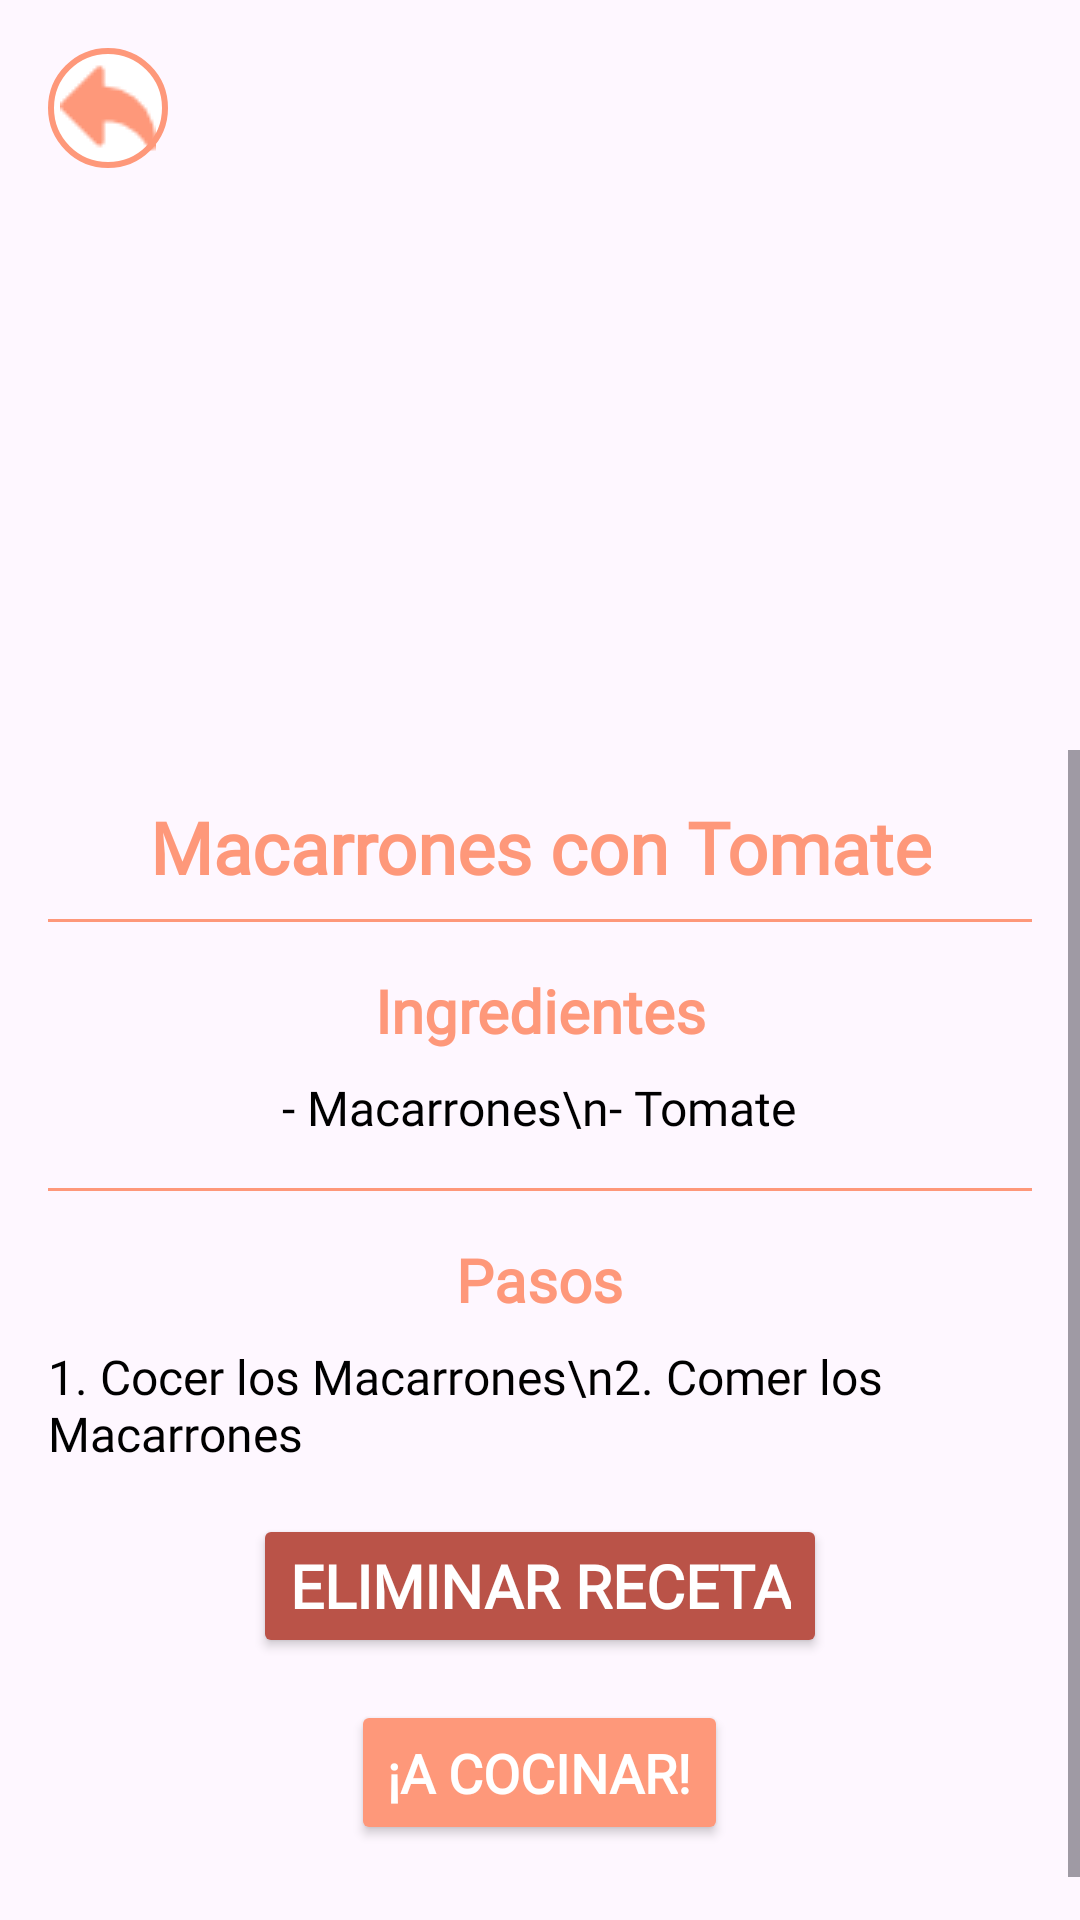

Icons on this 1080*1920 Android screen, each with its box as region(x1, y1, x2, y2):
atras: region(48, 48, 168, 168)
